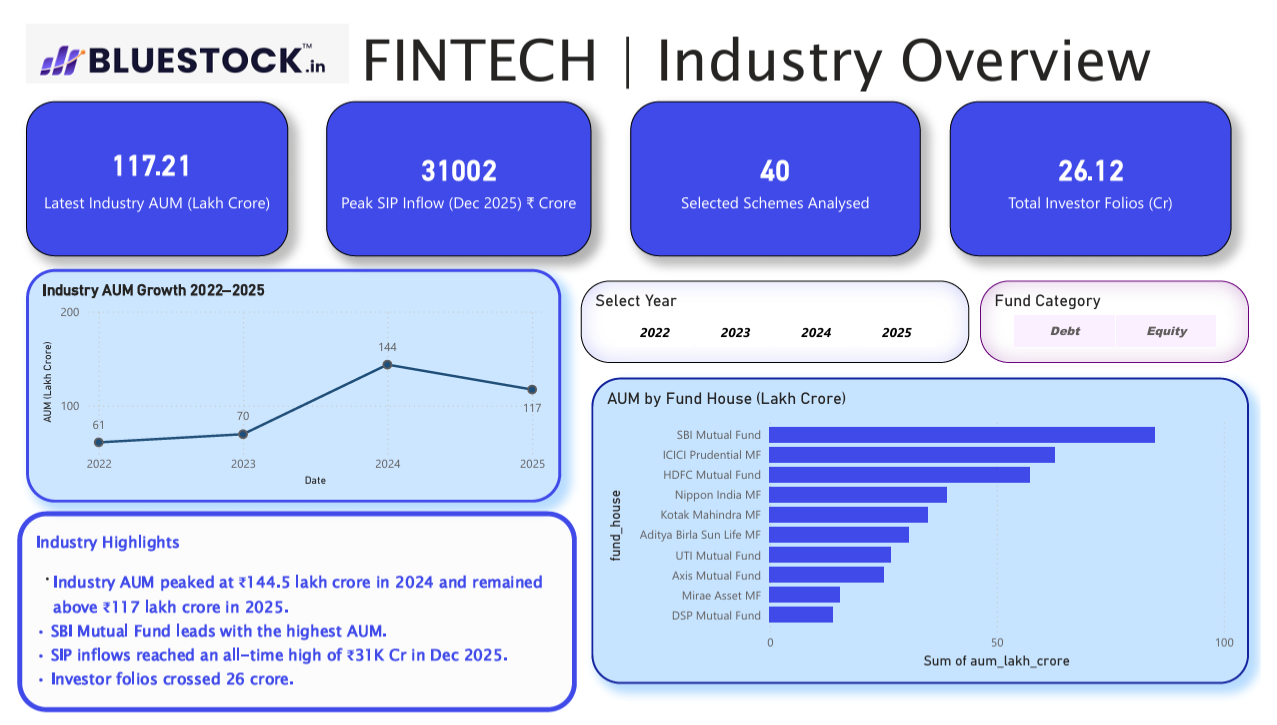

The dashboard page shown, as its layout file describes it:
{"tool":"powerbi","page":{"name":"Industry Overview","canvas":[1280,720],"ordinal":0},"visuals":[{"type":"card","fields":{"Values":["Sum(clean_aum_by_fund_house.aum_lakh_crore)"]},"box":[8.8,90,270,160],"z":0},{"type":"card","fields":{"Values":["clean_monthly_sip_inflows.Latest SIP Inflow"]},"box":[317.5,90,273.8,160],"z":1000},{"type":"card","fields":{"Values":["clean_industry_folio_count.Latest Folios"]},"box":[960,90,290,160],"z":2000},{"type":"card","fields":{"Values":["clean_fund_master.Total Schemes"]},"box":[631.2,90,298.8,160],"z":3000},{"type":"lineChart","title":"Industry AUM Growth 2022–2025","fields":{"Category":["clean_aum_by_fund_house.date.Variation.Date Hierarchy.Year","clean_aum_by_fund_house.date.Variation.Date Hierarchy.Quarter","clean_aum_by_fund_house.date.Variation.Date Hierarchy.Month","clean_aum_by_fund_house.date.Variation.Date Hierarchy.Day"],"Y":["Sum(clean_aum_by_fund_house.aum_lakh_crore)"]},"box":[8.8,262.5,551.2,241.2],"z":4000},{"type":"slicer","title":"Select Year","fields":{"Values":["clean_aum_by_fund_house.Year"]},"box":[580,275,400,85],"z":5000},{"type":"slicer","title":"Fund Category","fields":{"Values":["clean_fund_master.category"]},"box":[991.2,275,276.2,85],"z":6000},{"type":"textbox","box":[0,0,1280,102.5],"z":7000},{"type":"clusteredBarChart","title":"AUM by Fund House (Lakh Crore)","fields":{"Category":["clean_aum_by_fund_house.fund_house"],"Y":["Sum(clean_aum_by_fund_house.aum_lakh_crore)"]},"box":[591.2,375,676.2,316.2],"z":8000},{"type":"image","box":[8.8,10,332.5,62.5],"z":9000},{"type":"textbox","box":[0,512.5,576.2,207.5],"z":10000},{"type":"textbox","box":[91.2,133.8,106.2,47.5],"z":11000}]}

Visuals, with their boxes in screenshot pixels (x1, y1, x2, y2), scaled from the page's 1280x720 canvas onto the 1277x725 screenshot:
card - Sum(clean_aum_by_fund_house.aum_lakh_crore): crop(9, 91, 278, 252)
card - clean_monthly_sip_inflows.Latest SIP Inflow: crop(317, 91, 590, 252)
card - clean_industry_folio_count.Latest Folios: crop(958, 91, 1247, 252)
card - clean_fund_master.Total Schemes: crop(630, 91, 928, 252)
"Industry AUM Growth 2022–2025" lineChart: crop(9, 264, 559, 507)
"Select Year" slicer: crop(579, 277, 978, 362)
"Fund Category" slicer: crop(989, 277, 1264, 362)
textbox: crop(0, 0, 1276, 103)
"AUM by Fund House (Lakh Crore)" clusteredBarChart: crop(590, 378, 1264, 696)
image: crop(9, 10, 341, 73)
textbox: crop(0, 516, 575, 724)
textbox: crop(91, 135, 197, 183)
